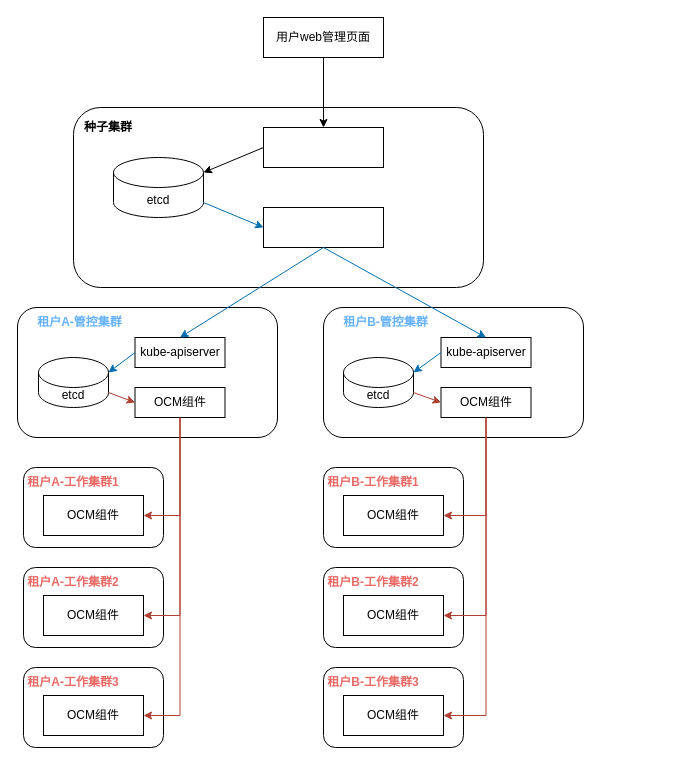
Image size: 686x775. Some labels were removed from this diagram. The shapes that lost their labels are listed below. From the top down, each one's centre as x and y in pixels, then its label:
At pixel 323 147: "管理平台apiserver".
At pixel 323 227: "管理平台operator".
